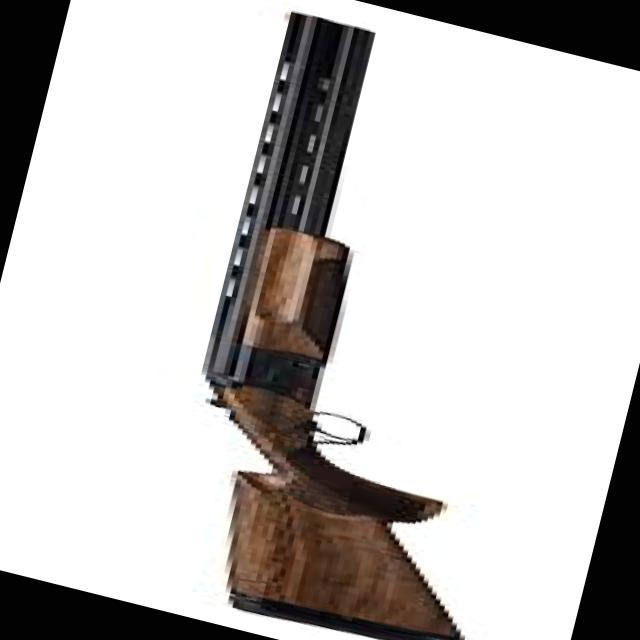long weapon: (111, 0, 480, 640)
